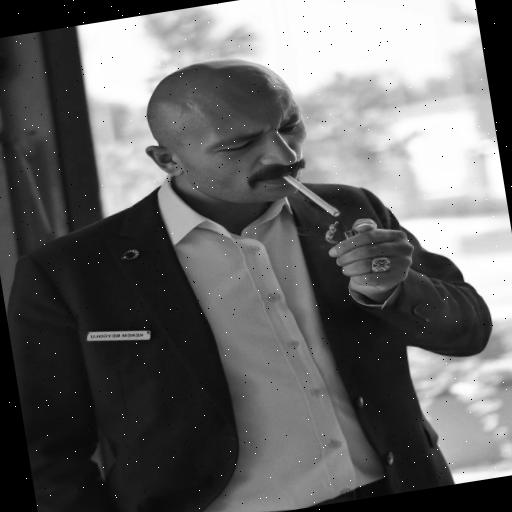terdeteksi merokok: (220, 102, 353, 240)
